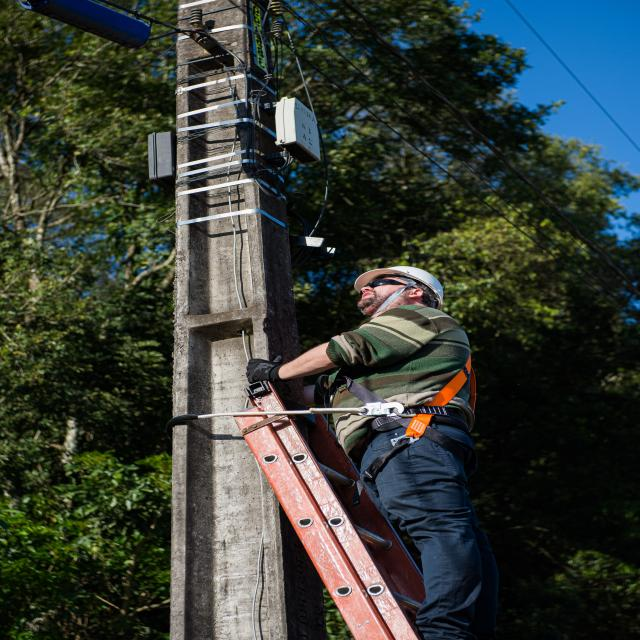capacete: (352, 266, 447, 307)
luva: (245, 352, 290, 386)
